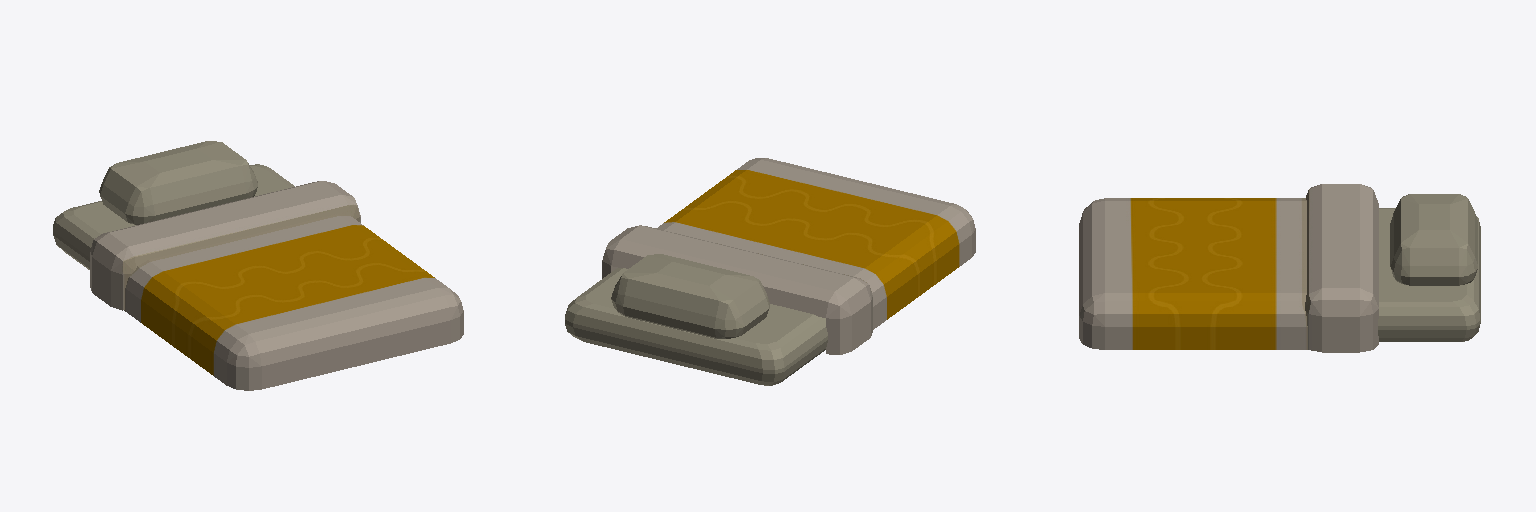
3 views of the same model, side by side, from view 1: azimuth 30°, elevation 25°; view 2: azimuth 150°, elevation 25°; view 3: azimuth 270°, elevation 25° (orthographic).
Visible parts, largest first — view 1: pCube16; view 2: pCube16; view 3: pCube16.
Part boxes in pixels (bbox=[...]): pCube16: bbox=[53, 141, 463, 390]; pCube16: bbox=[565, 158, 975, 385]; pCube16: bbox=[1079, 184, 1480, 352].
Bounding box in the file's own units: 2.61 × 0.7785 × 3.65.
Materials: 2 (2 with a texture image).